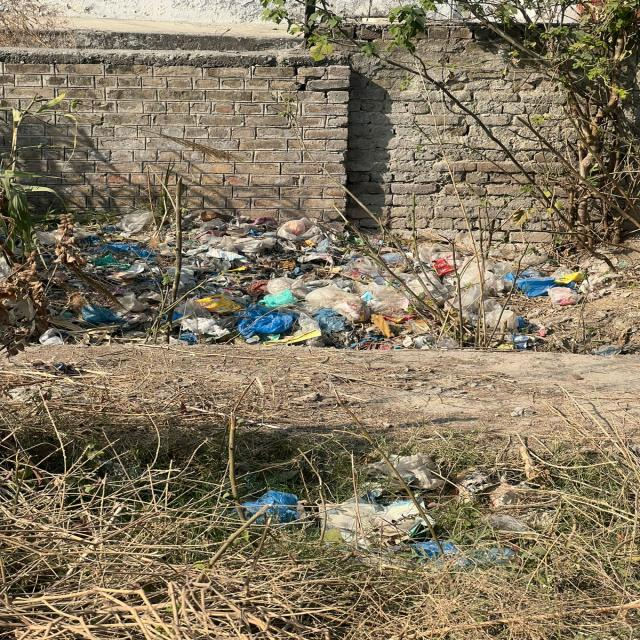garbage: (64, 216, 541, 356)
